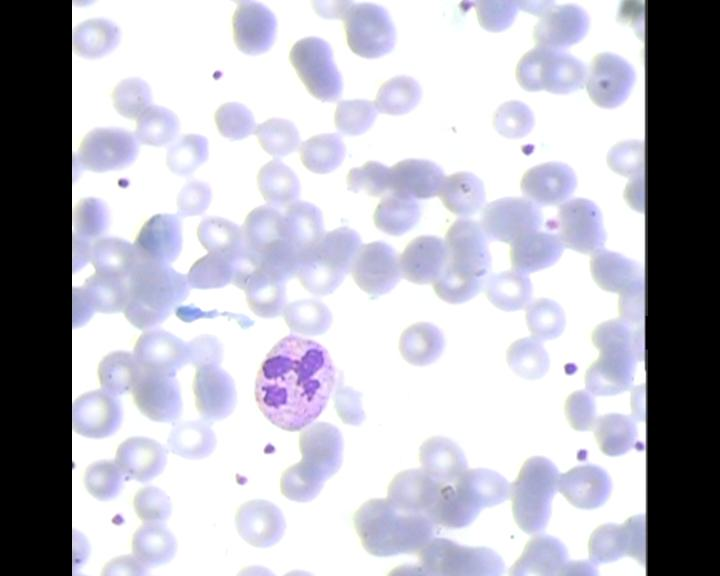neut: (247, 332, 337, 430)
